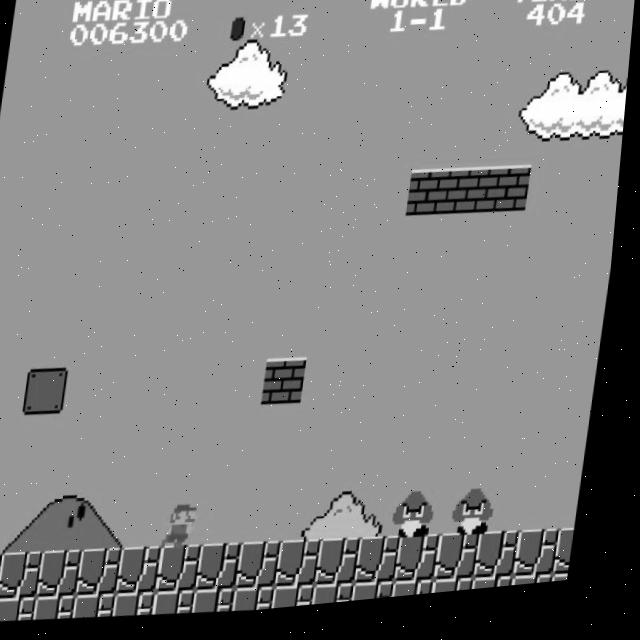1- brick_block: (268, 362, 314, 413), (450, 175, 496, 226), (490, 174, 536, 225), (410, 176, 456, 226)
11- little_mario: (164, 501, 214, 556)
17- undestructible_block: (325, 543, 372, 595), (365, 542, 412, 594), (405, 542, 452, 593), (524, 539, 571, 590), (206, 546, 252, 598), (246, 545, 292, 597), (286, 544, 332, 596), (7, 551, 53, 602), (47, 550, 93, 601), (87, 549, 133, 600), (127, 548, 173, 599), (166, 547, 212, 598), (445, 541, 491, 592), (485, 540, 531, 591), (4, 597, 48, 625), (44, 596, 88, 624), (84, 595, 128, 623), (163, 593, 207, 621), (203, 592, 247, 620), (124, 594, 167, 622), (243, 591, 287, 618), (283, 590, 327, 615), (322, 589, 366, 612), (565, 540, 585, 588), (362, 588, 406, 609), (402, 587, 445, 606), (442, 586, 485, 603), (0, 552, 14, 603), (482, 585, 525, 600), (522, 584, 565, 597), (0, 597, 8, 625), (563, 585, 580, 594)
3- empty_block: (29, 367, 76, 419)
8- goomba: (398, 495, 448, 550), (457, 494, 507, 549)
